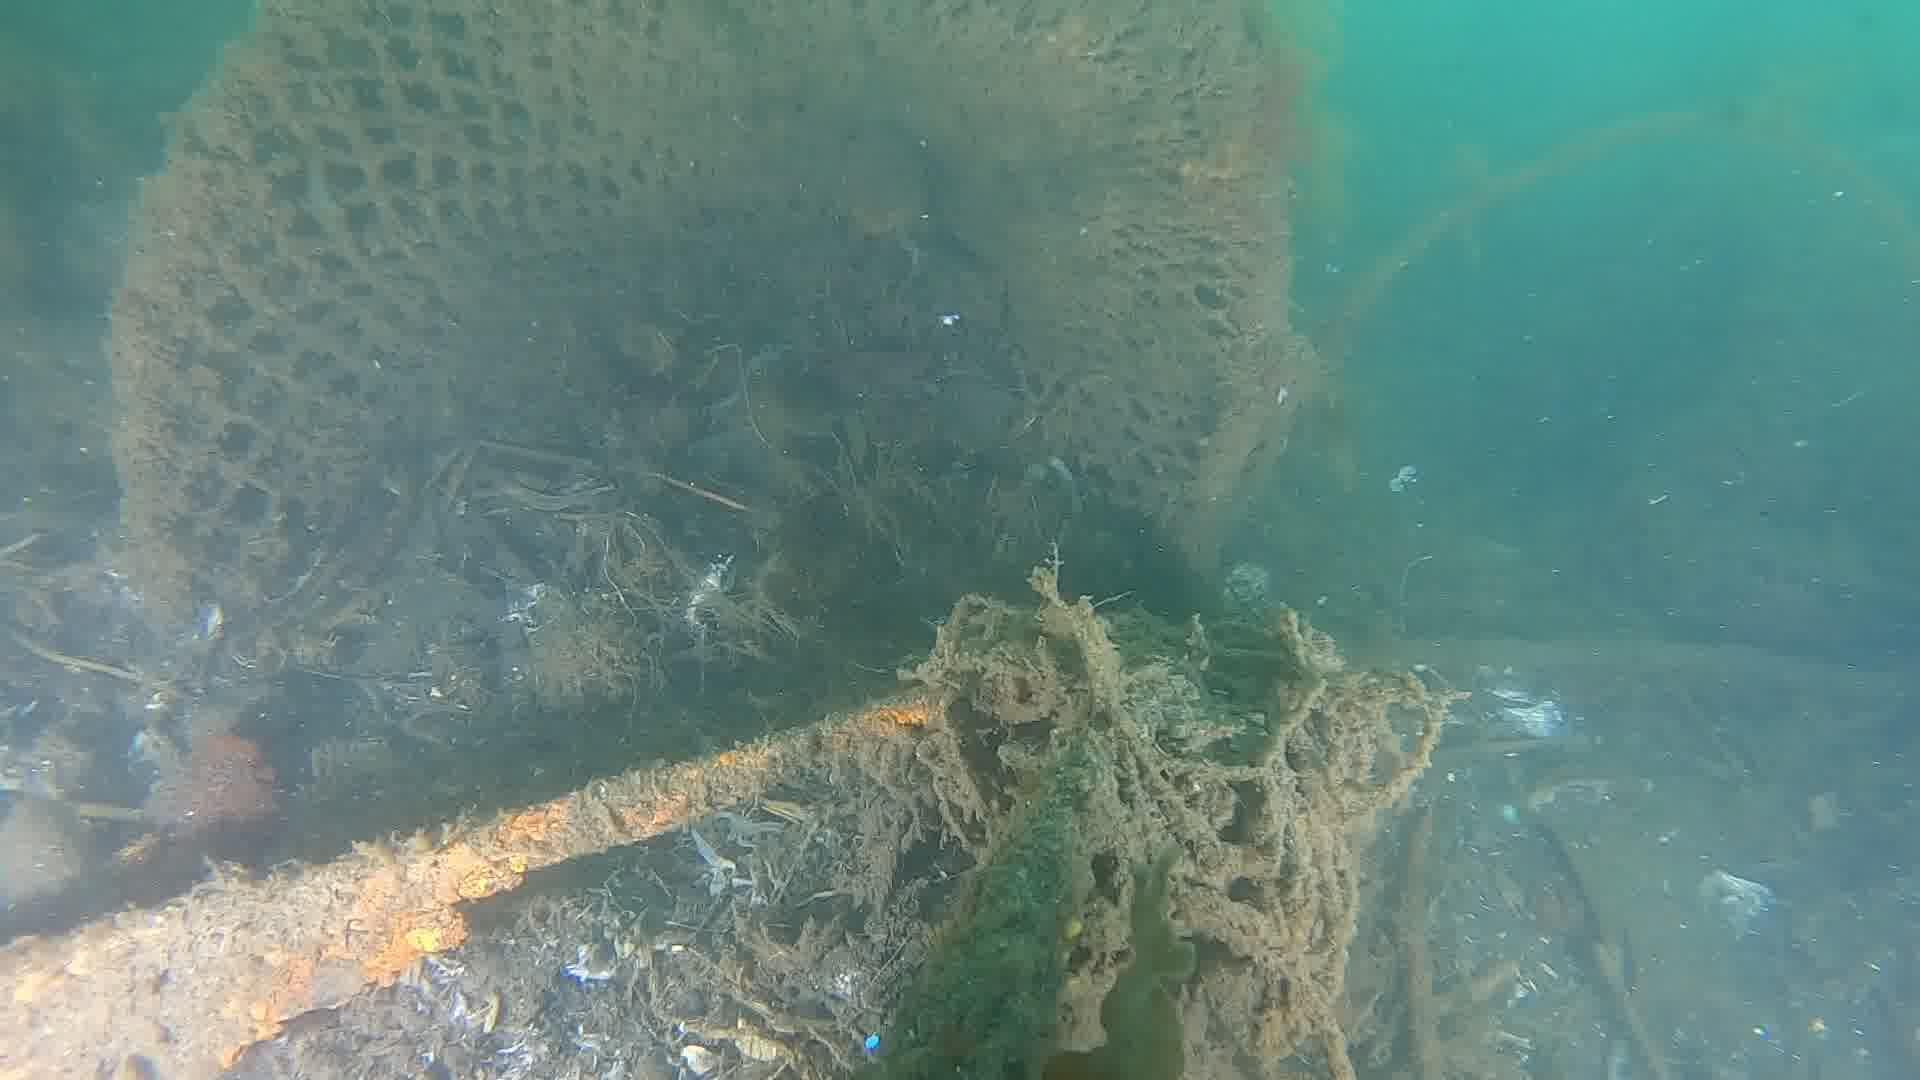circular fish trap: (99, 0, 1338, 688)
